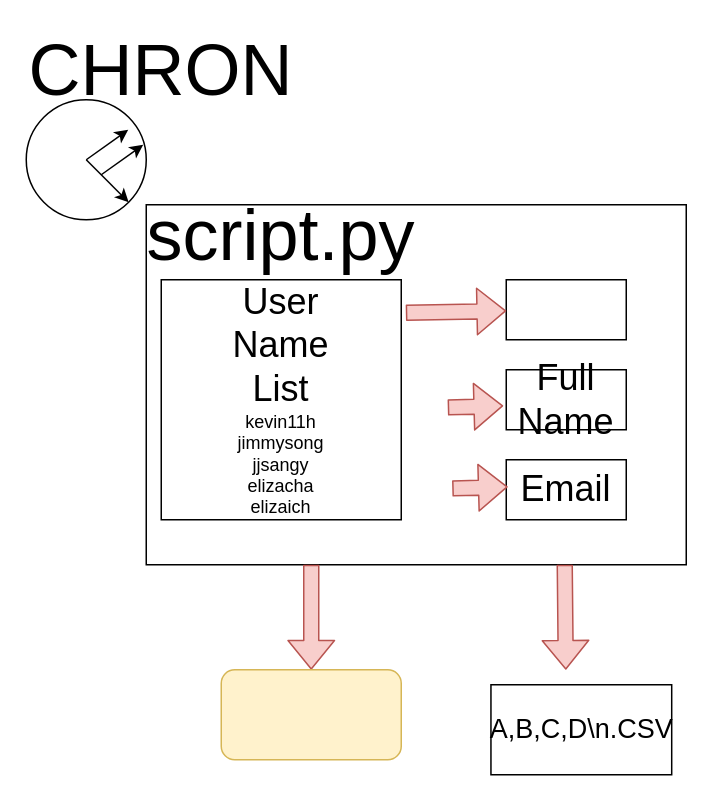
This 713x801 diagram has some shape labels left out. The shapes that lost their labels are listed below. From the top down, each one's box as (x1, y1, x2, y2) in pixels, then its label:
(505, 278, 626, 340): Avatar URL
(220, 668, 401, 760): Terminal Output
